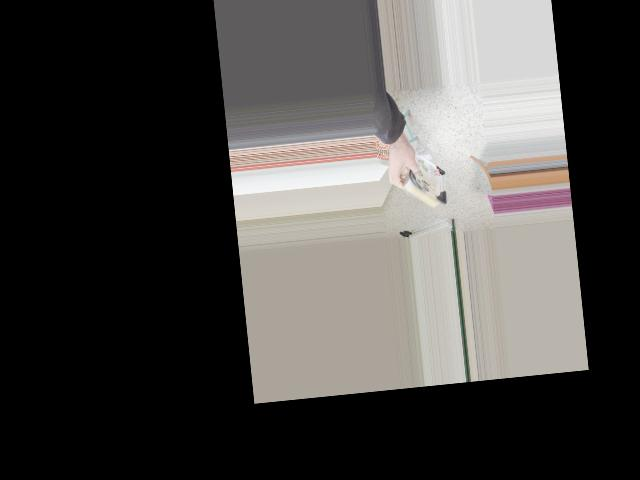cheese: (383, 153, 466, 225)
